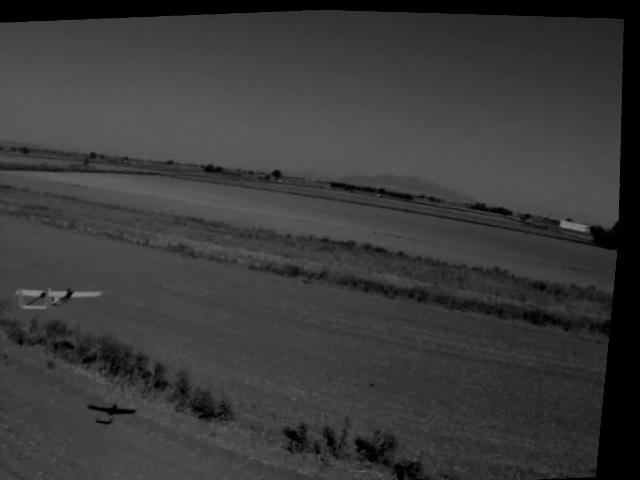hedef: (14, 274, 117, 320)
